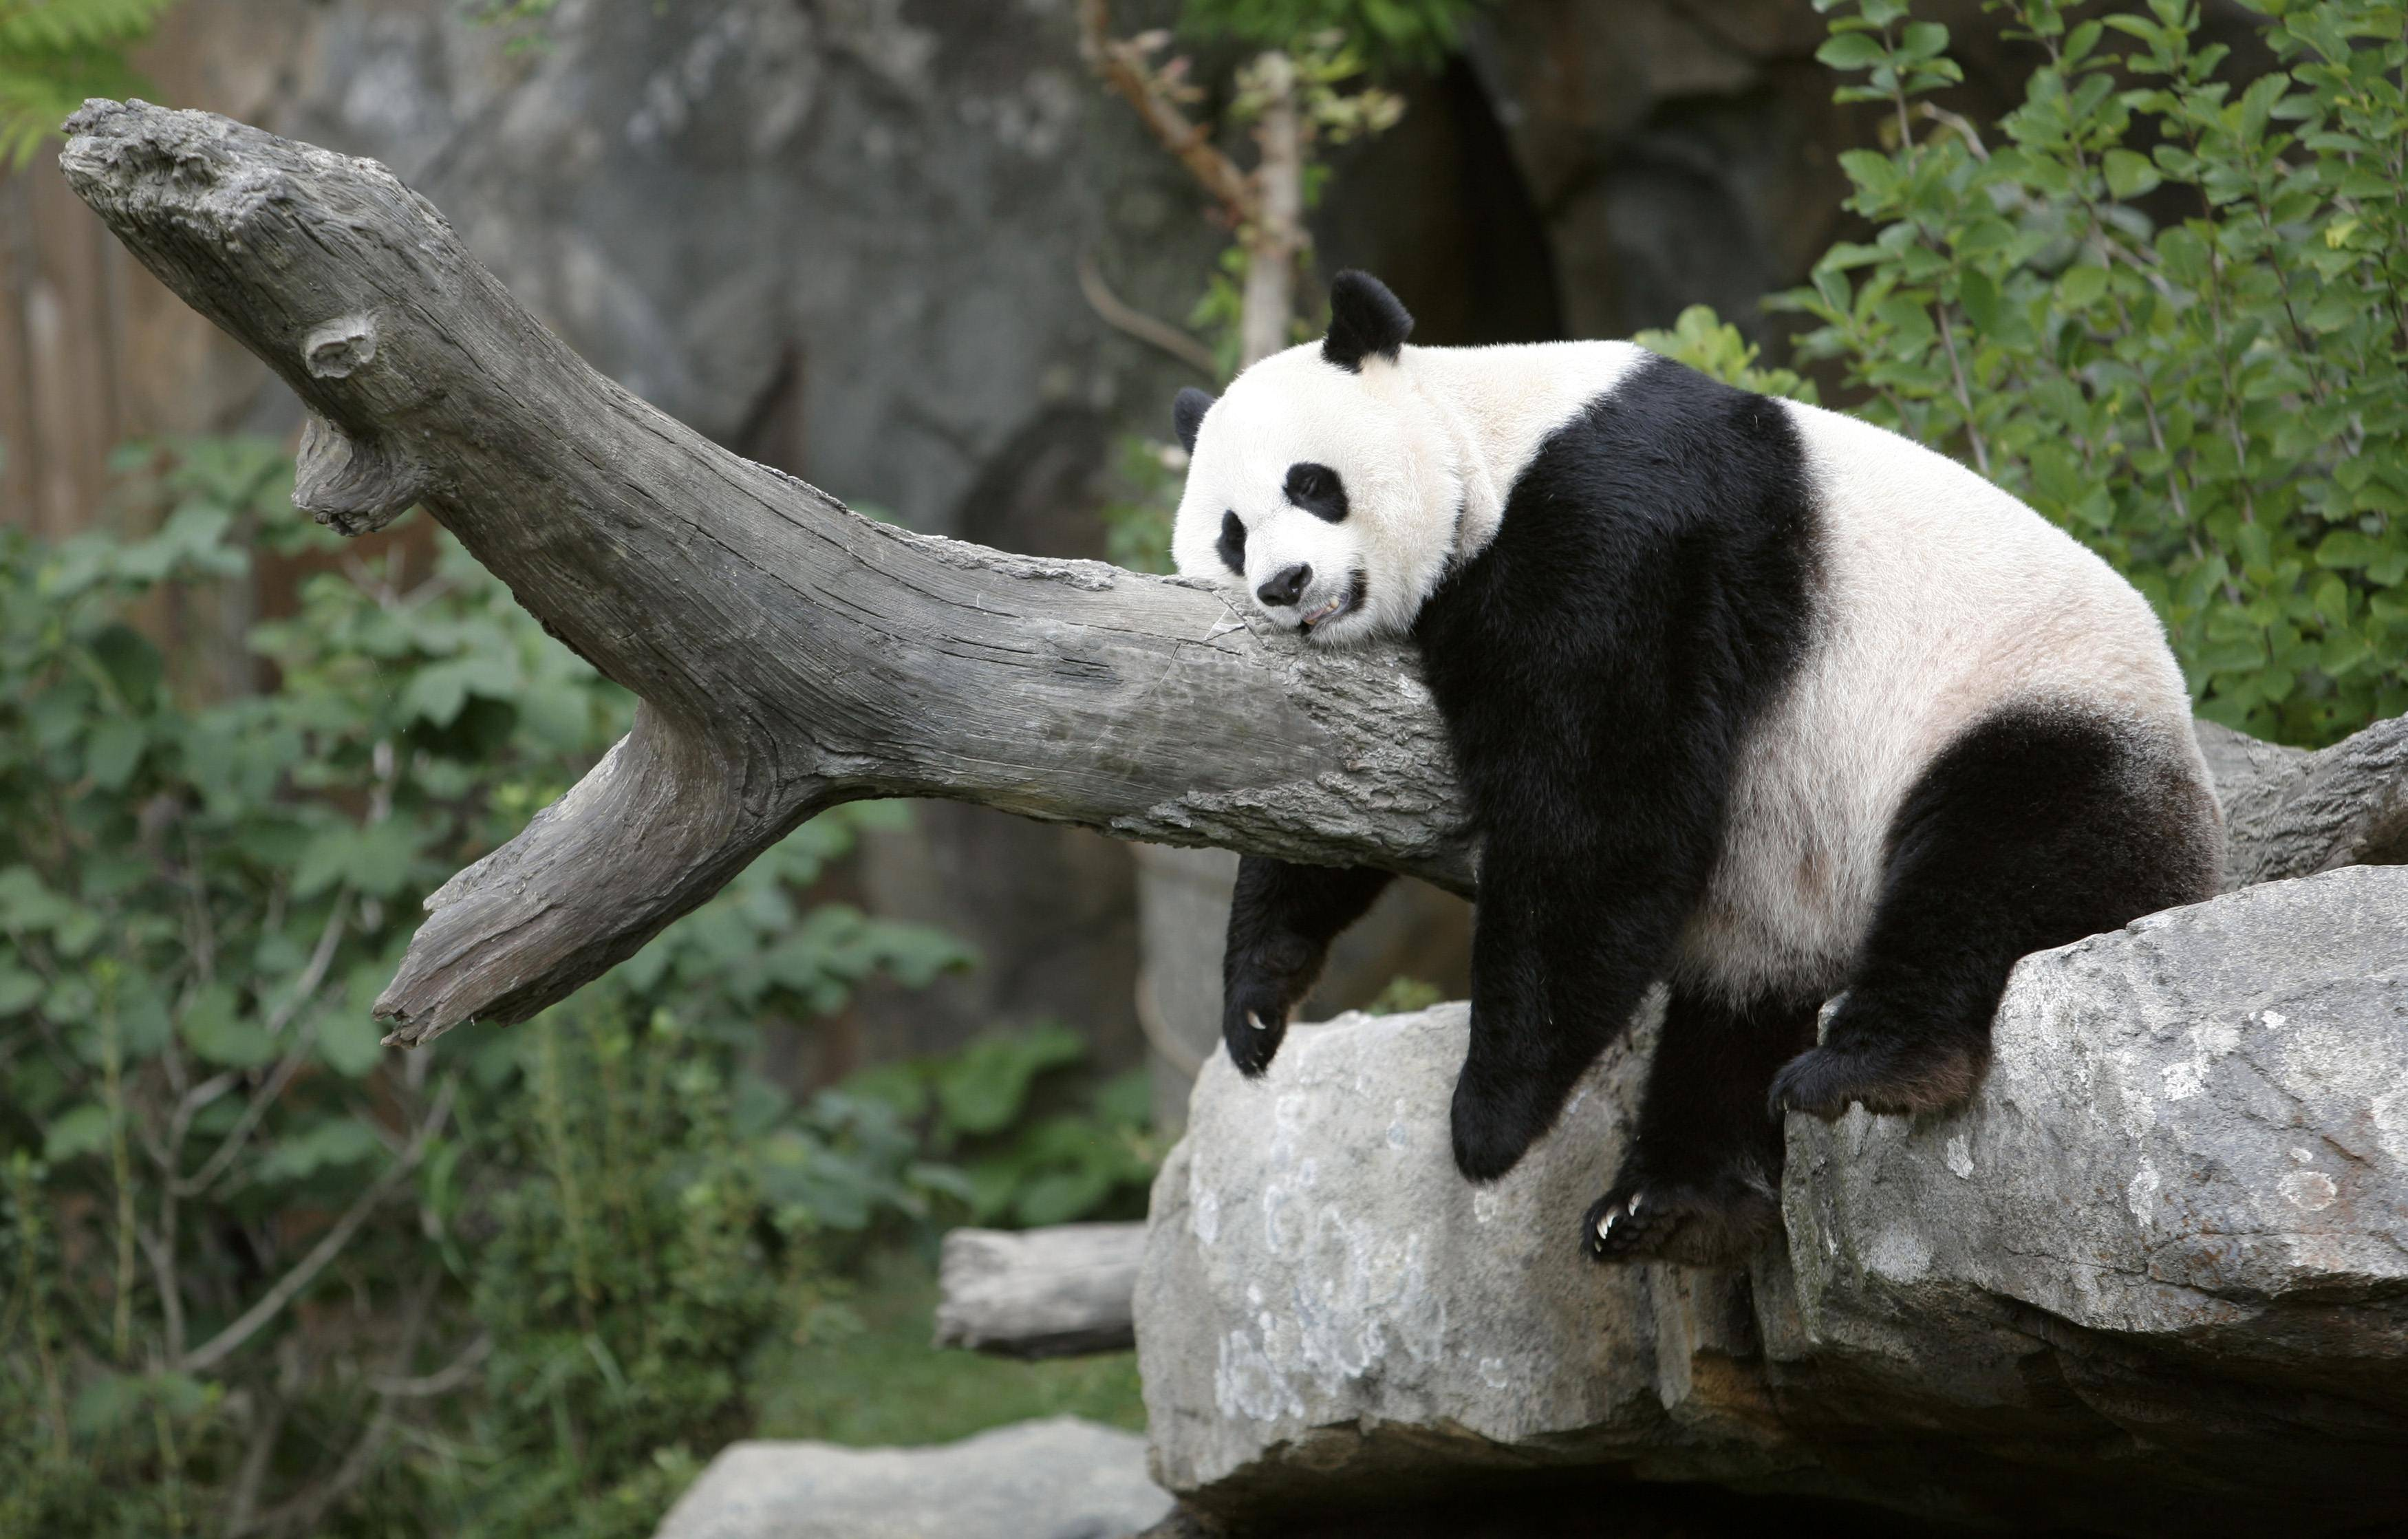panda: (1096, 310, 2277, 1221)
